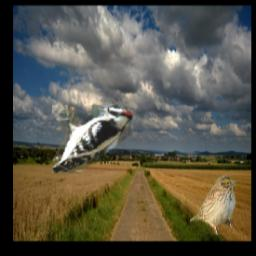Sparrow: (190, 174, 238, 235)
Woodpecker: (51, 105, 132, 173)
